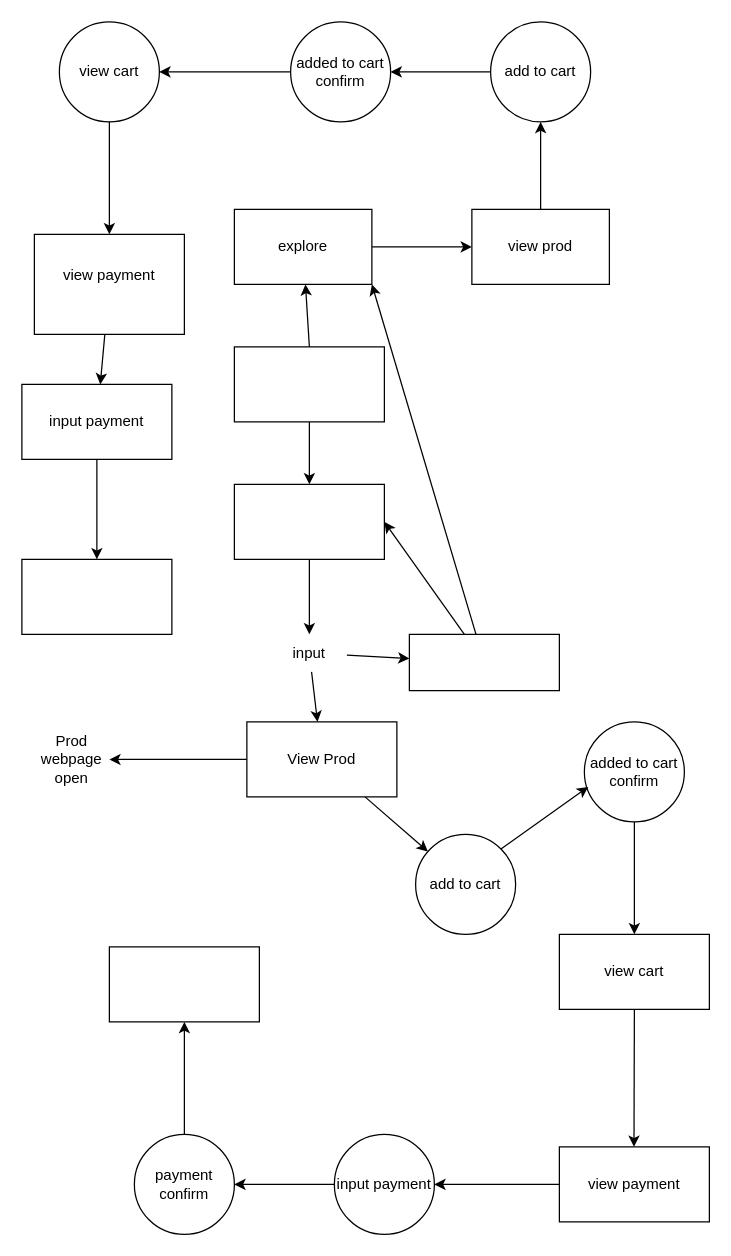
This 731x1256 diagram has some shape labels left out. Here are the shapes that lost their labels. From the top down, the centre of each, then its label:
point 308,384: Retail Web Shop
point 308,521: search
point 96,596: confirm
point 483,662: continue shopping
point 183,984: leave website
